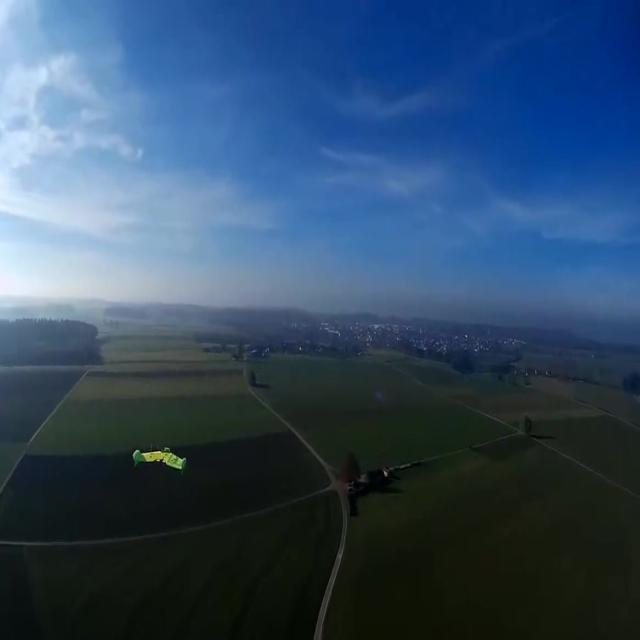iha: (132, 439, 188, 467)
